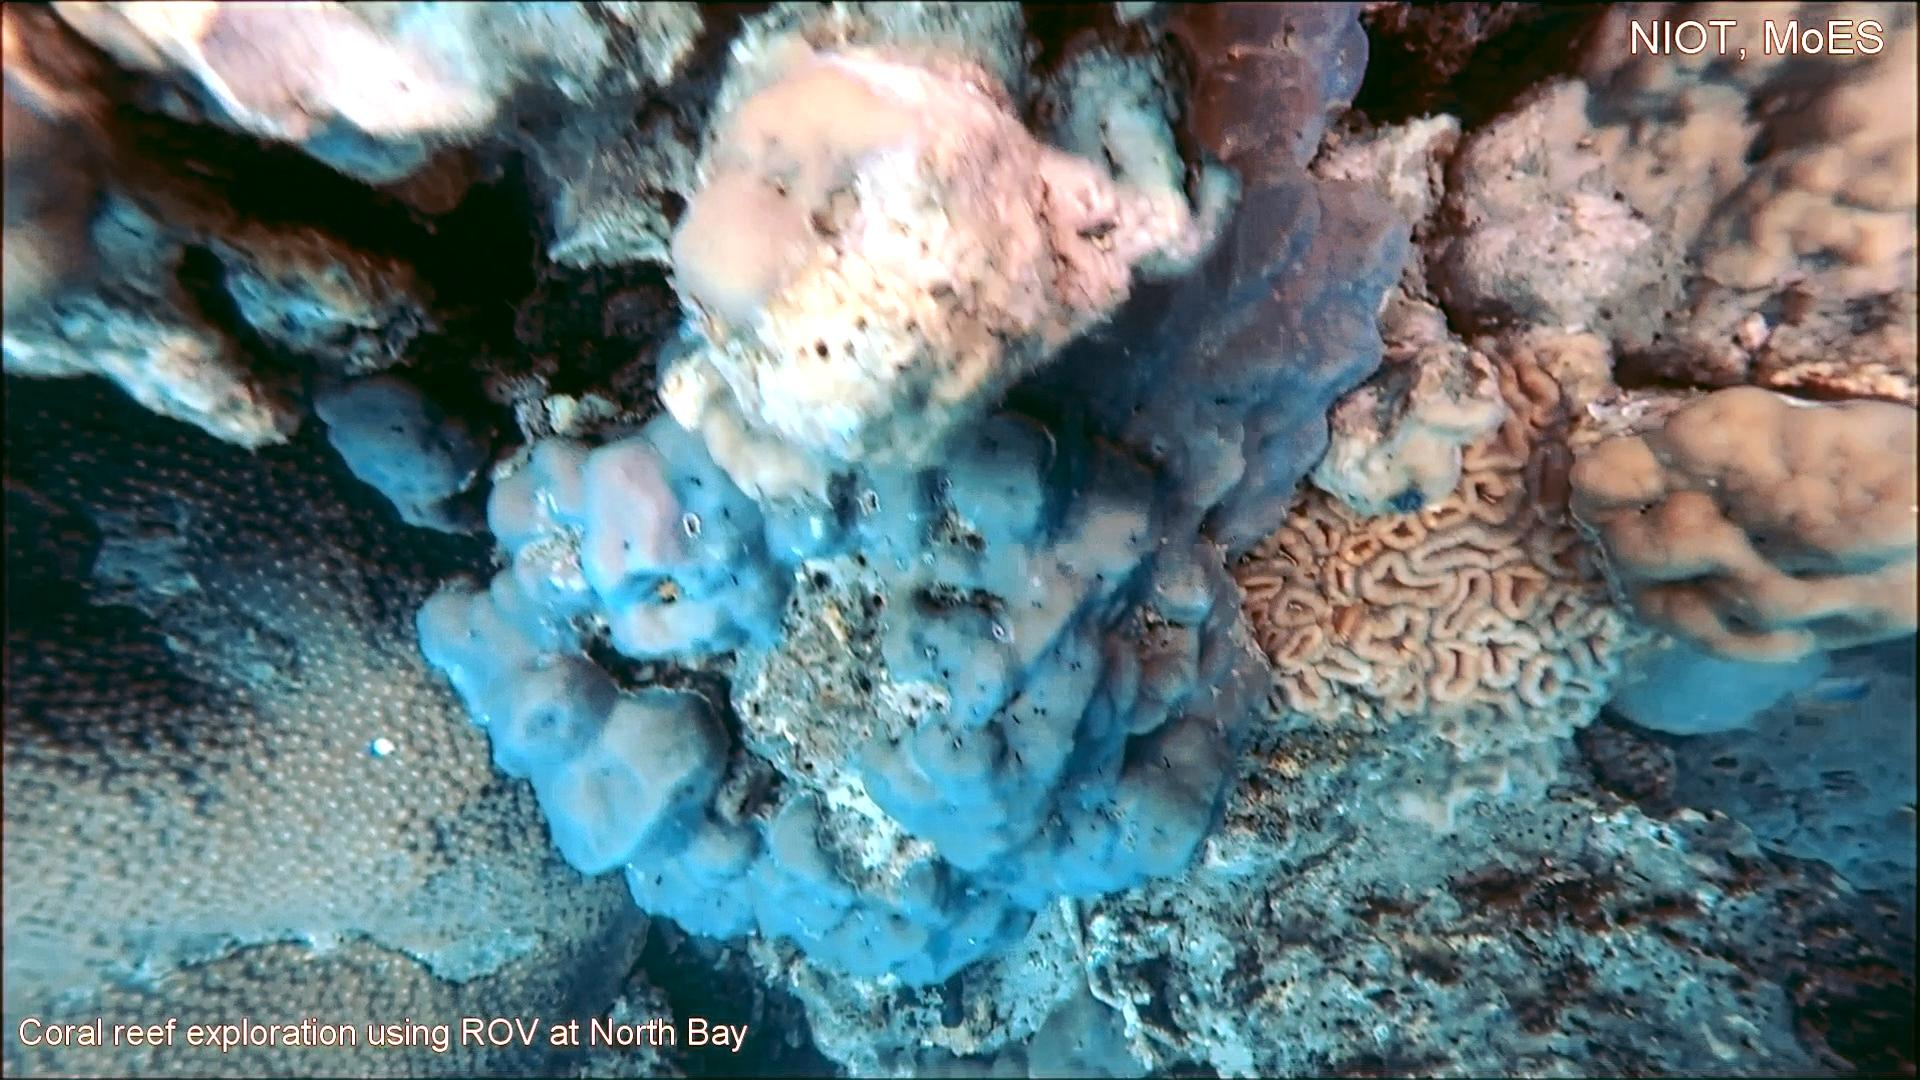Lobophyllia: (1226, 331, 1664, 775)
